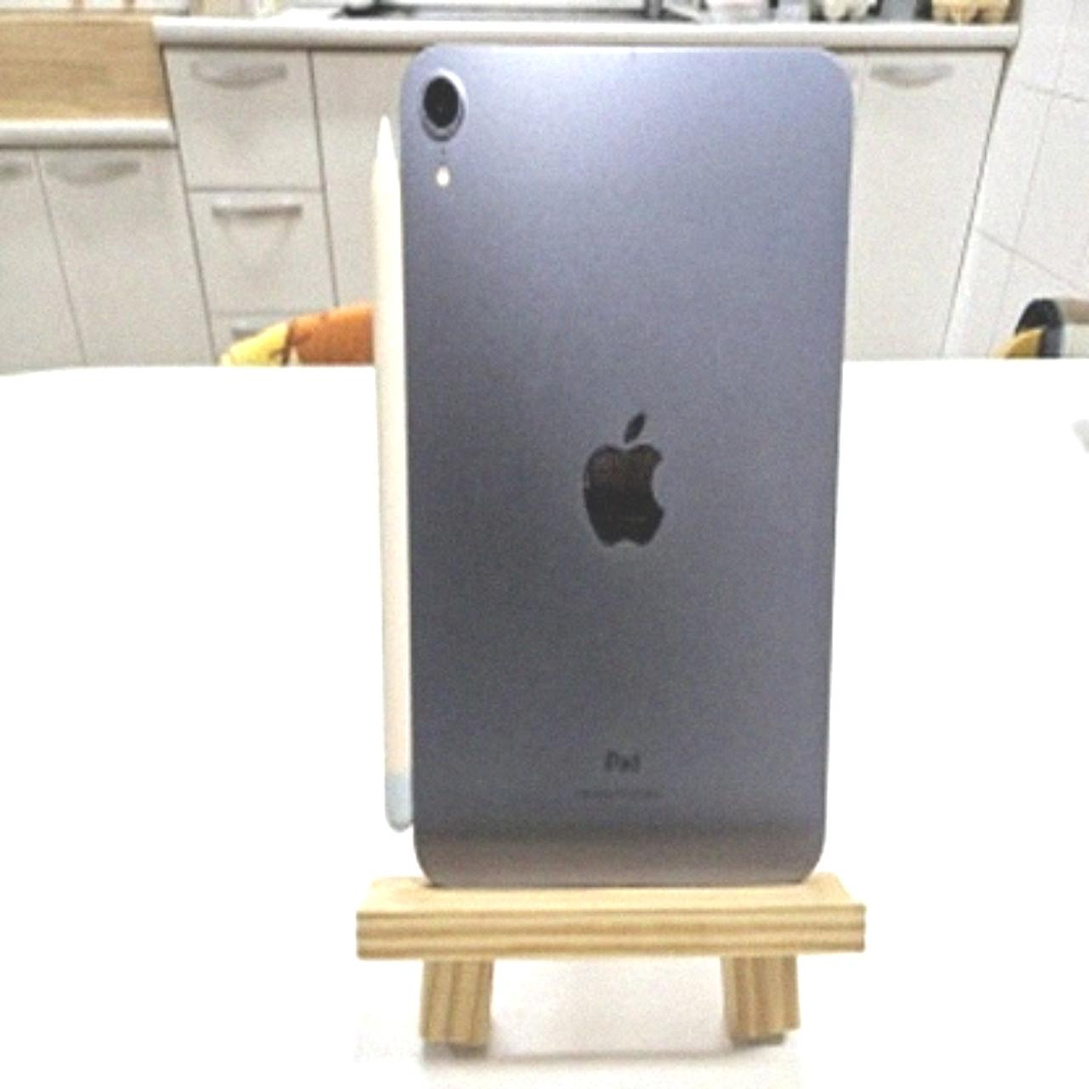Tablet_PC: (351, 31, 866, 884)
